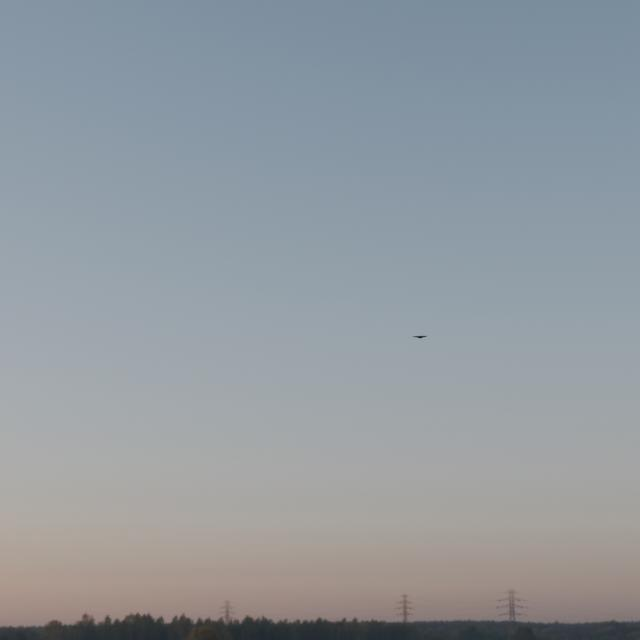Airaplan: (413, 336, 427, 340)
